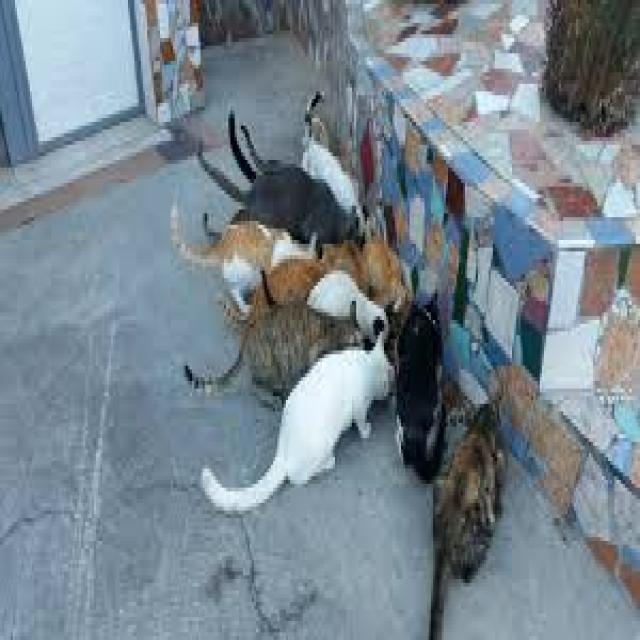cat: (202, 338, 392, 512), (185, 288, 362, 398), (430, 406, 505, 637), (172, 204, 310, 314), (199, 151, 359, 242), (396, 295, 445, 479), (302, 95, 360, 212), (308, 272, 388, 340), (268, 247, 330, 305), (362, 239, 409, 309)
